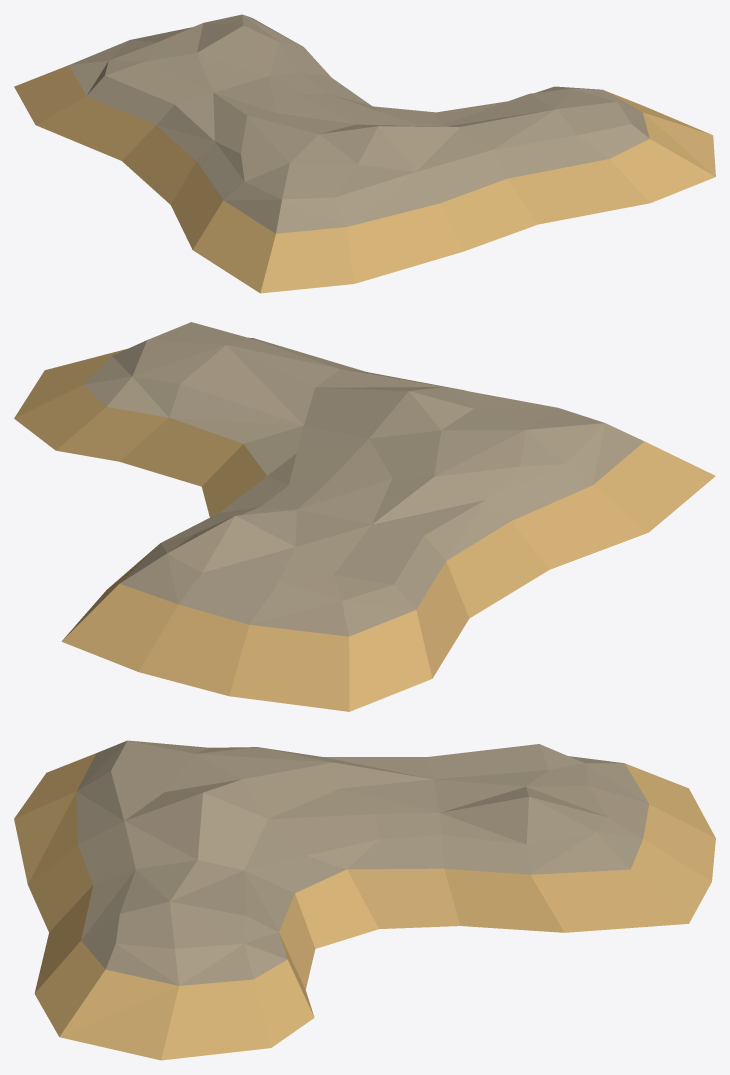
Rendered from TB_D_Env_Mound_Corner_B.FBX.
3 views of the same model, one above another, from view 1: azimuth 30°, elevation 25°; view 2: azimuth 150°, elevation 25°; view 3: azimuth 270°, elevation 25° (orthographic). The views are drawn at different scales.
Visible parts, largest first — view 1: TB_D_Env_Mound_Corner_B; view 2: TB_D_Env_Mound_Corner_B; view 3: TB_D_Env_Mound_Corner_B.
Part boxes in pixels (x1,y1,x2,y2): TB_D_Env_Mound_Corner_B: (14,14,715,293); TB_D_Env_Mound_Corner_B: (14,322,715,711); TB_D_Env_Mound_Corner_B: (14,740,715,1060).
Bounding box in the file's own units: 24.99 × 3.45 × 25.45.
